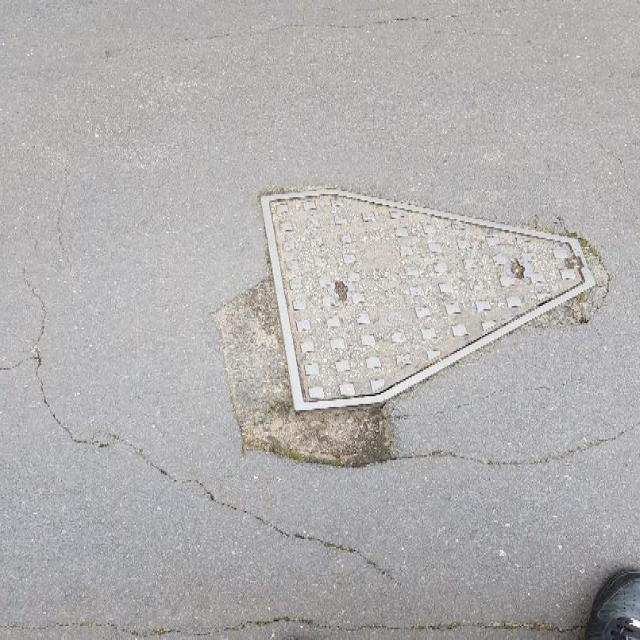Pothole: (211, 273, 405, 473)
